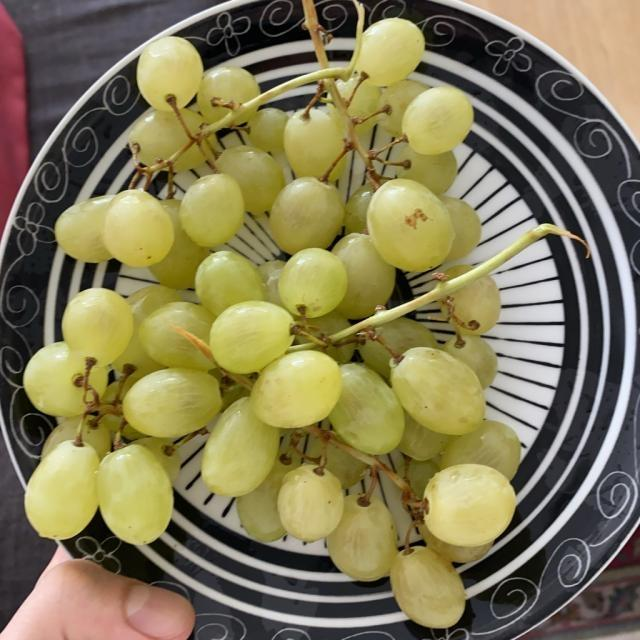grapes: (36, 28, 513, 604)
